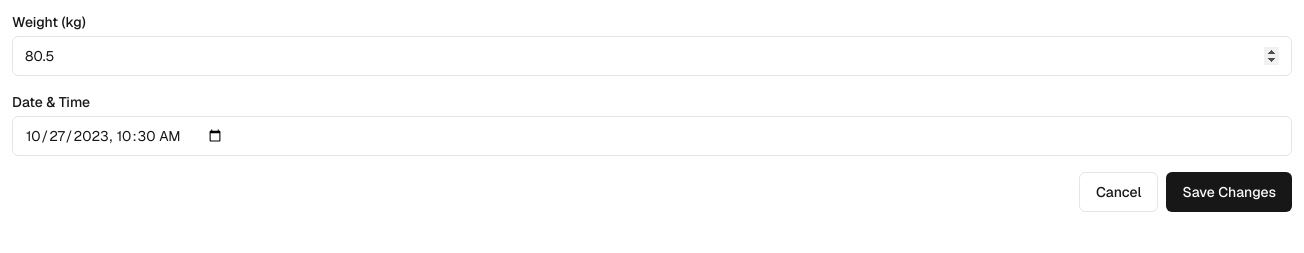
Test case: EditWeightForm › clears weight error message when weight input changes after a weight error
This screenshot has width=1304, height=253.
// Trigger weight error
Step 1. Replace the text in the number field labelled "Weight (kg)" with "0" → (652, 56), box [12, 36, 1292, 76]
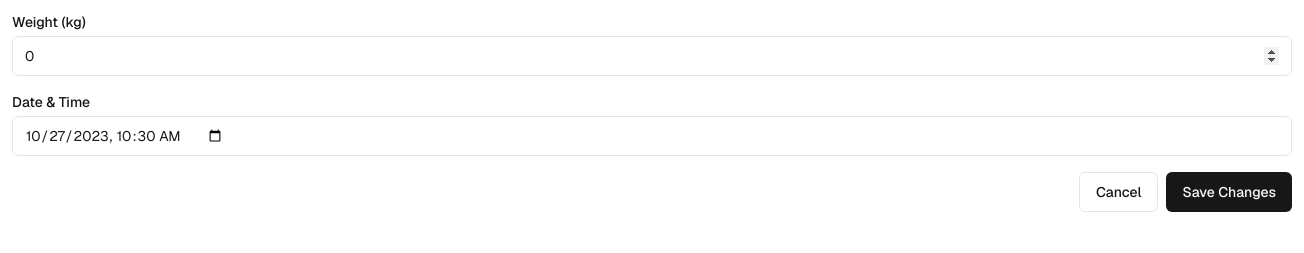
Step 2. Click the button "Save Changes" → (1229, 192), box [1166, 172, 1292, 212]
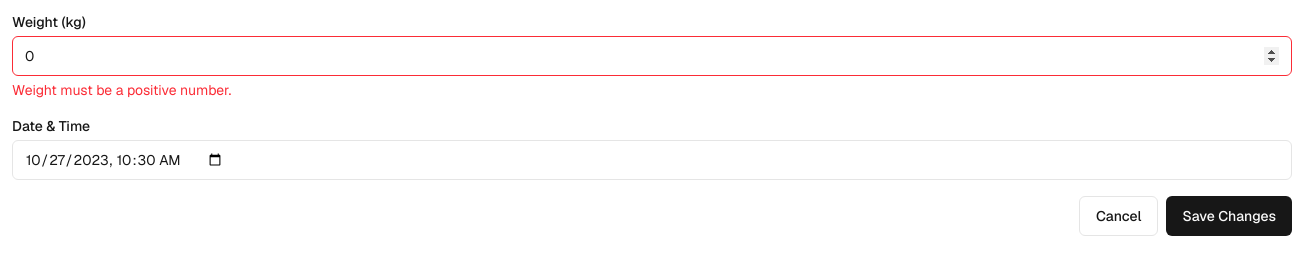
Now the text "Weight must be a positive number." is shown, box [12, 81, 231, 99]
// Clear error by typing valid input in weight field
Step 3. Replace the text in the number field labelled "Weight (kg)" with "70" → (652, 56), box [12, 36, 1292, 76]
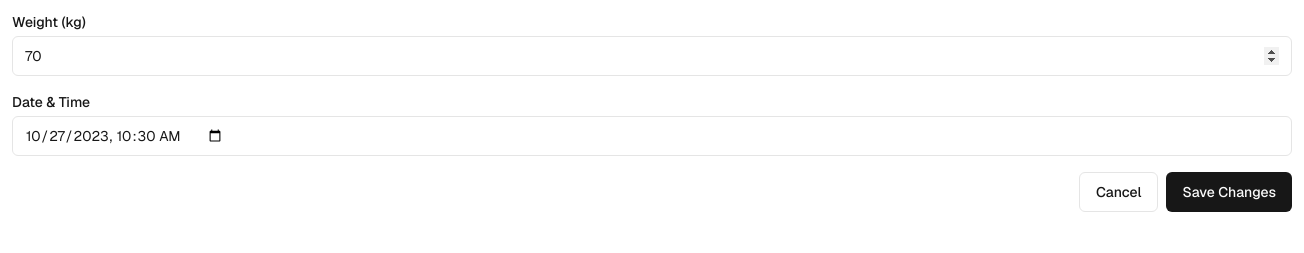
Now the text "Weight must be a positive number." is gone
